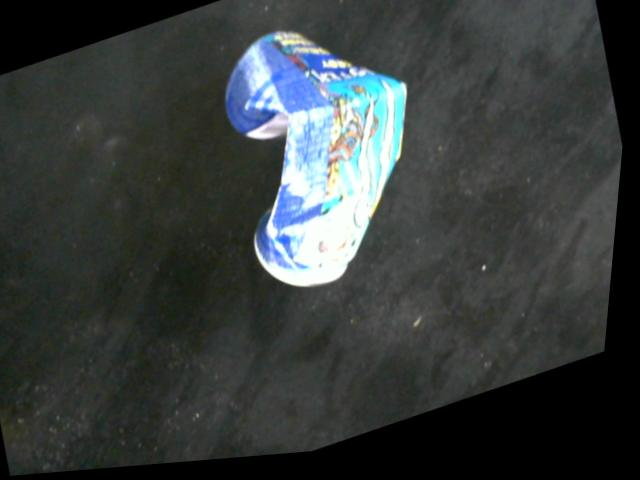can: (223, 28, 415, 302)
